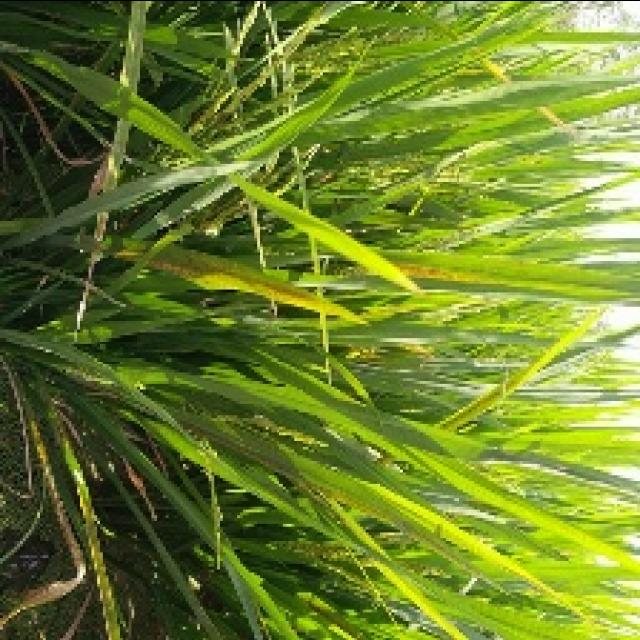Unhealthy: (22, 472, 89, 610), (256, 277, 365, 324), (77, 203, 112, 339), (110, 248, 248, 282), (391, 263, 480, 282)
